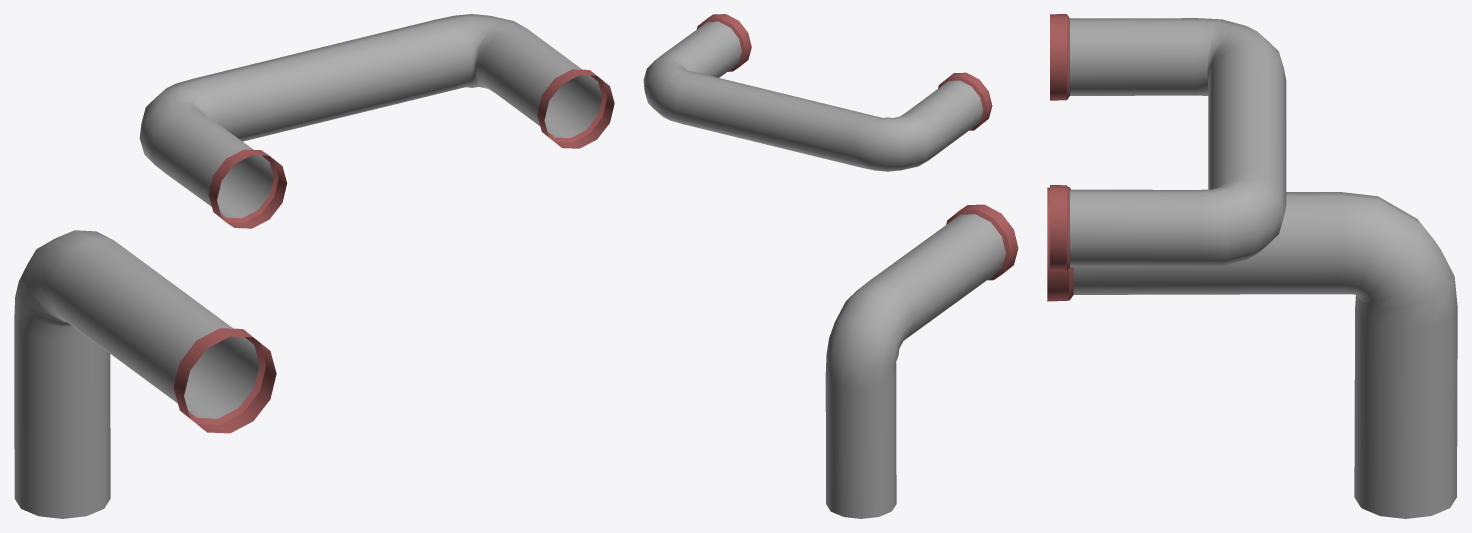
Rendered from SM_Builder_Tube03.fbx.
3 views of the same model, side by side, from view 1: azimuth 30°, elevation 25°; view 2: azimuth 150°, elevation 25°; view 3: azimuth 270°, elevation 25° (orthographic). The views are drawn at different scales.
Visible parts, largest first — view 1: BuilderAsset_Tube3; view 2: BuilderAsset_Tube3; view 3: BuilderAsset_Tube3.
Boxes of the visible parts, x1=… form: BuilderAsset_Tube3: x1=14, y1=14, x2=614, y2=518; BuilderAsset_Tube3: x1=643, y1=14, x2=1018, y2=518; BuilderAsset_Tube3: x1=1047, y1=14, x2=1457, y2=518.
Size of the model in its own units: 78.04 by 79.28 by 60.04.
